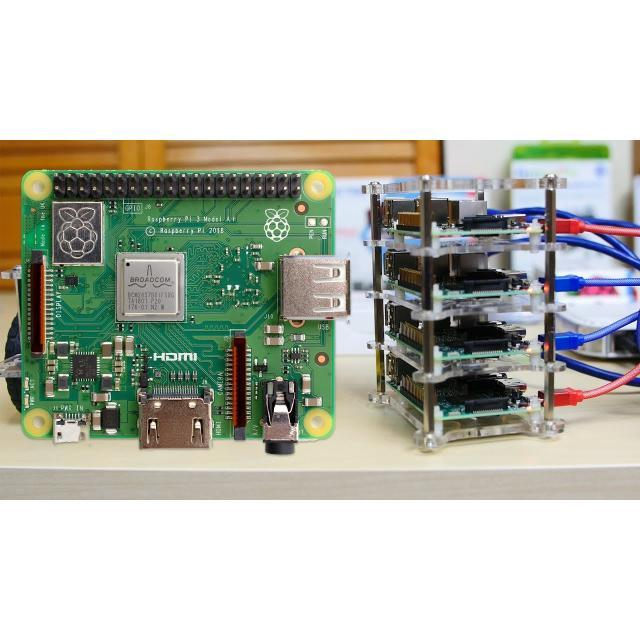Raspberry-Pi-3-A-: (19, 171, 350, 454)
